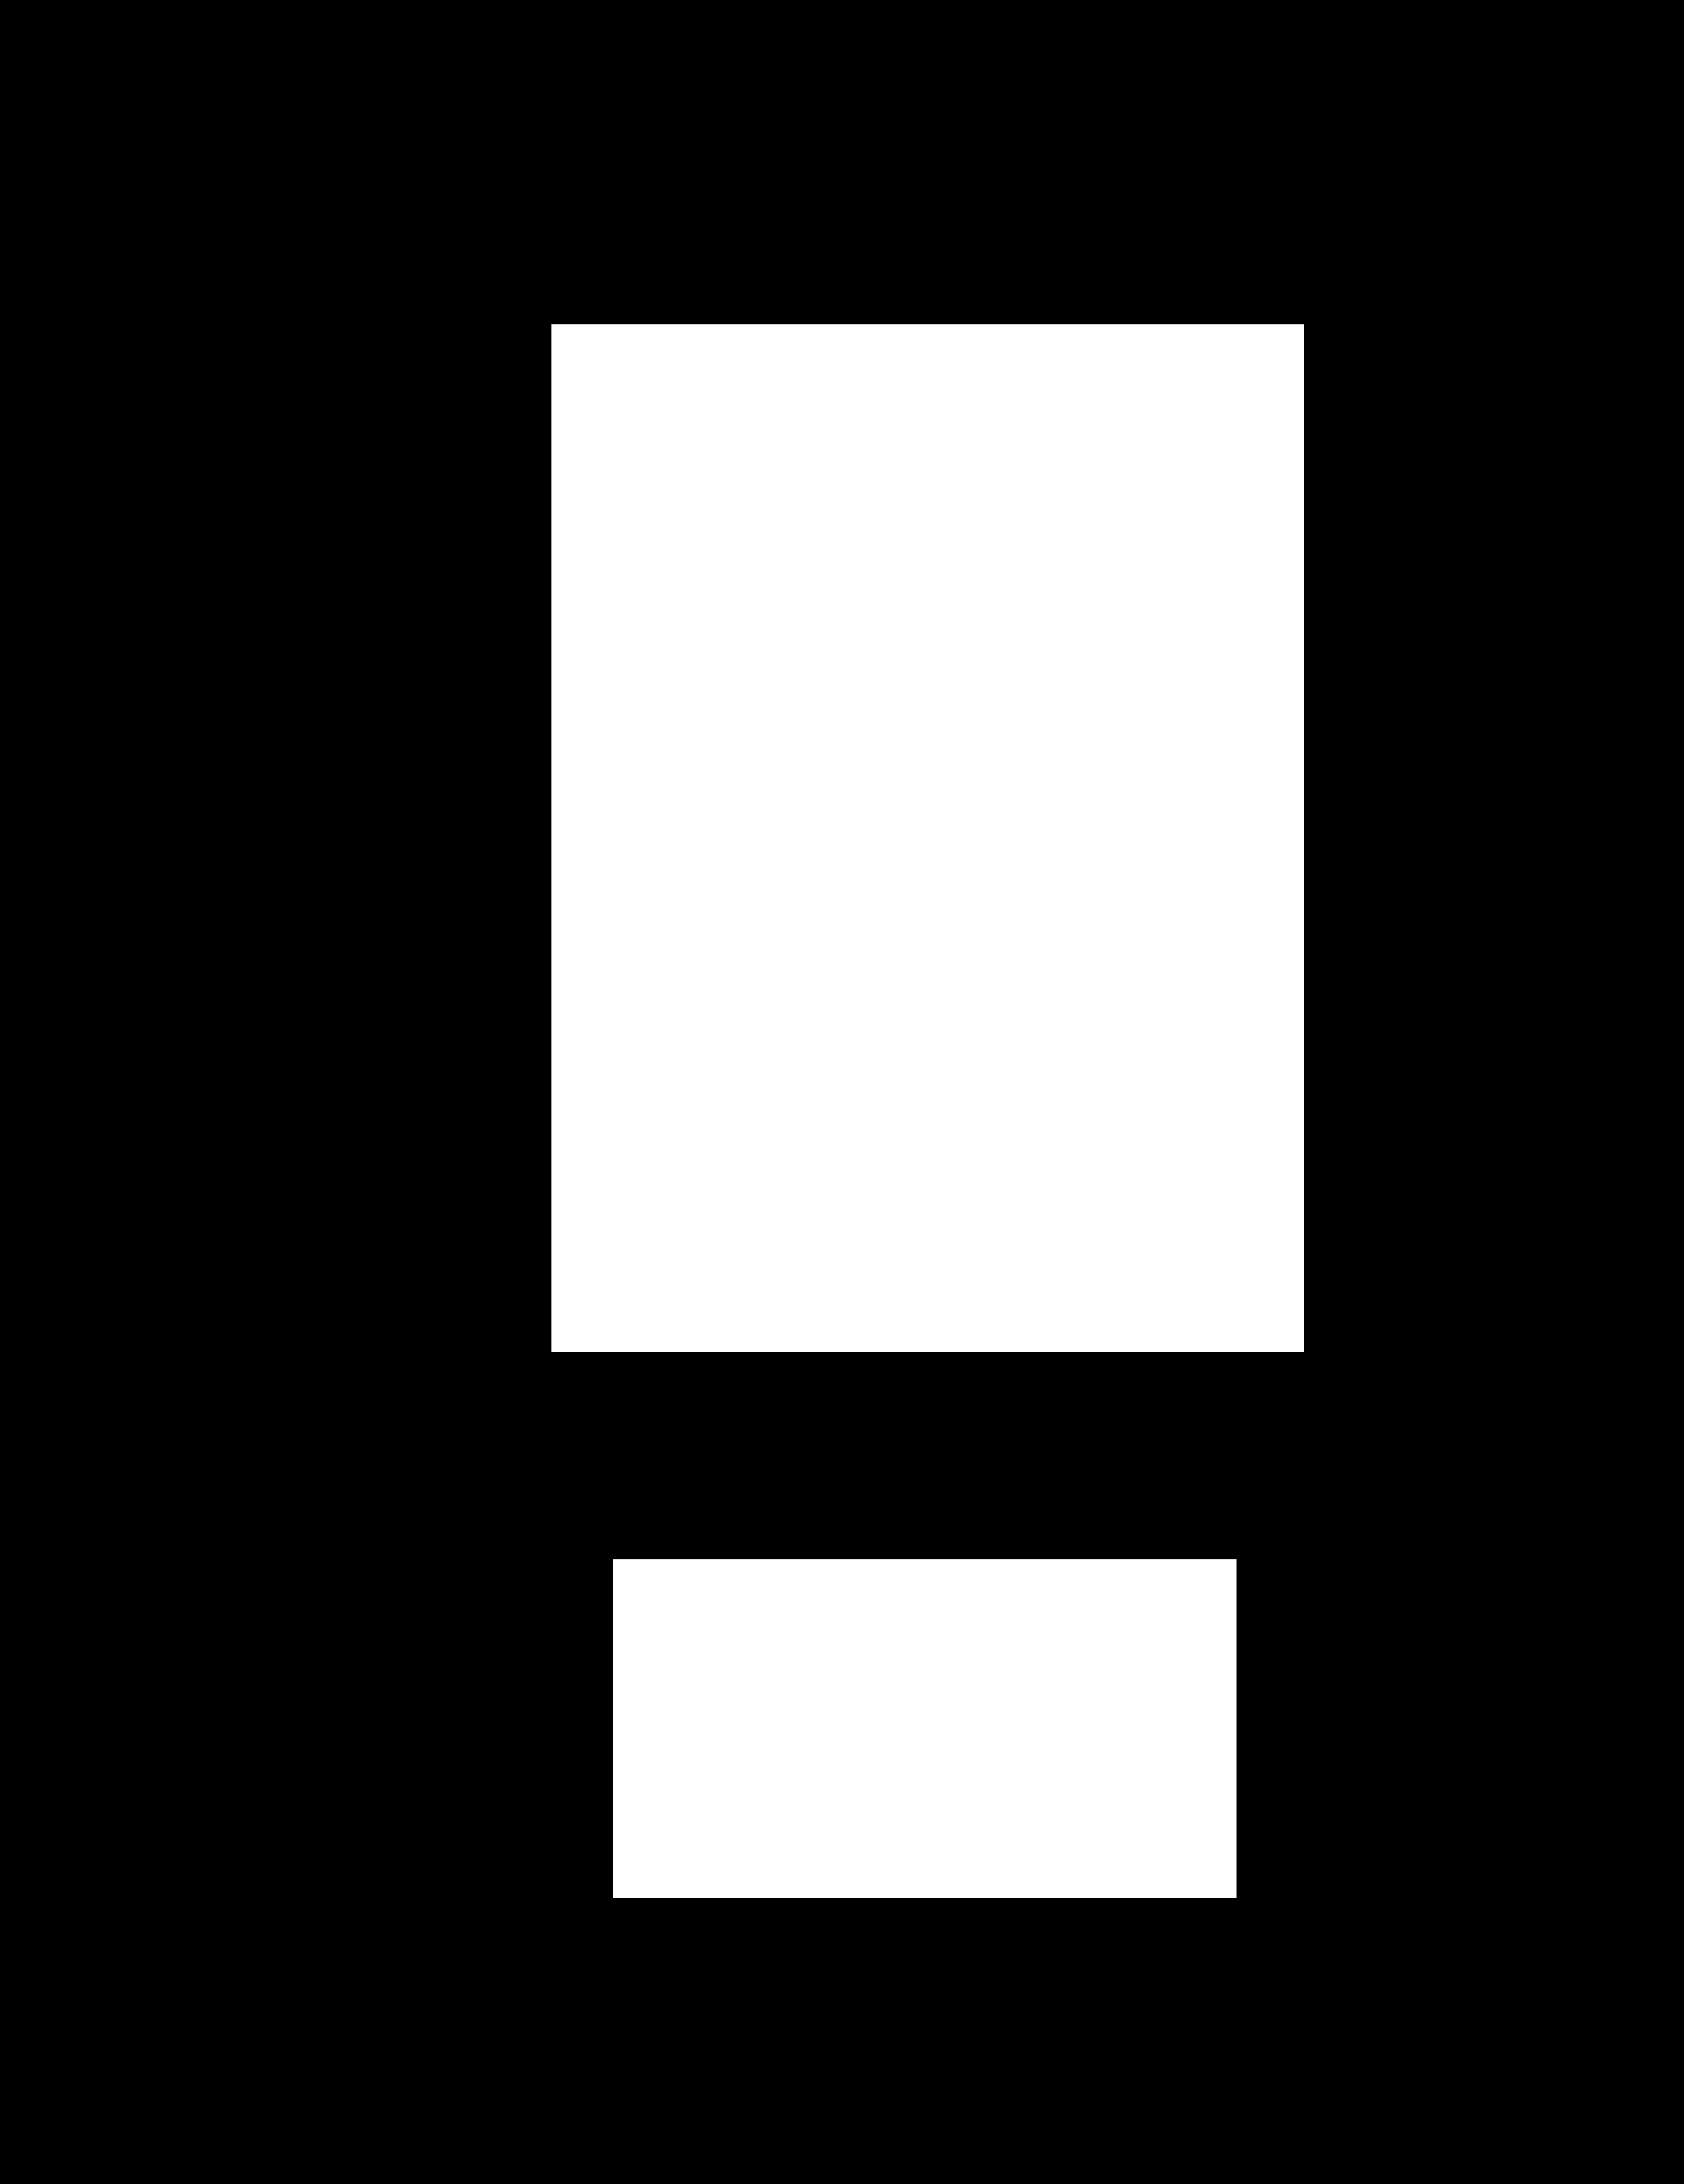table: (552, 324, 1304, 1351), (614, 1560, 1236, 1898)
